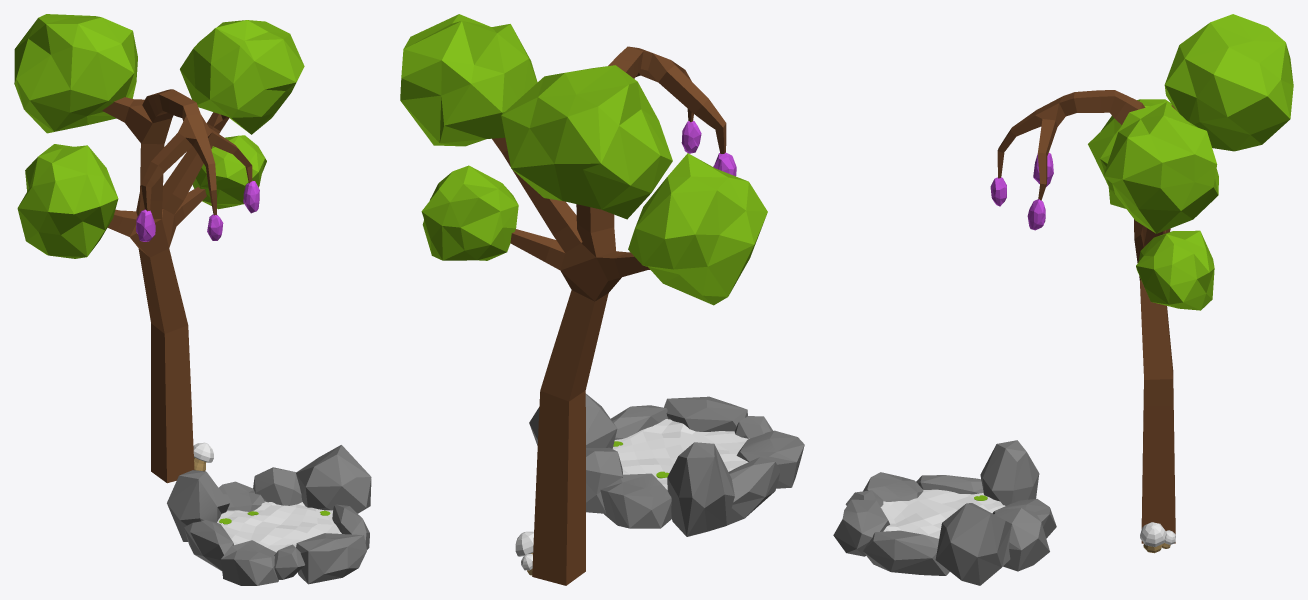
The model's file is gardenWATER.fbx.
3 views of the same model, side by side, from view 1: azimuth 30°, elevation 25°; view 2: azimuth 150°, elevation 25°; view 3: azimuth 270°, elevation 25° (orthographic). The views are drawn at different scales.
Parts seen in each view (by area): view 1: Vert, branch002, branch004, branch003, water1, stone003.001, branch001, stone002.001, stone002, stone003.006, stone001.002, stone003.002 (+4 smaller); view 2: Vert, branch002, branch003, branch004, branch001, stone002, water1, stone003.004, stone002.001, stone001.002, stone003.006, stone003.002 (+3 smaller); view 3: branch002, Vert, branch004, branch001, stone003.001, water1, stone001.001, stone002, stone003.002, stone002.001, branch003, stone003.006 (+2 smaller).
Part boxes in pixels (x1=…): Vert: x1=102, y1=89, x2=252, y2=483; branch002: x1=14, y1=14, x2=137, y2=133; branch004: x1=180, y1=20, x2=304, y2=134; branch003: x1=17, y1=144, x2=118, y2=258; water1: x1=217, y1=501, x2=341, y2=552; stone003.001: x1=296, y1=445, x2=371, y2=513; branch001: x1=192, y1=135, x2=266, y2=209; stone002.001: x1=296, y1=533, x2=366, y2=584; stone002: x1=167, y1=470, x2=229, y2=541; stone003.006: x1=221, y1=540, x2=278, y2=585; stone001.002: x1=184, y1=520, x2=233, y2=570; stone003.002: x1=253, y1=467, x2=302, y2=505; Vert: x1=492, y1=46, x2=726, y2=585; branch002: x1=501, y1=65, x2=672, y2=219; branch003: x1=628, y1=153, x2=767, y2=305; branch004: x1=400, y1=14, x2=537, y2=146; branch001: x1=421, y1=165, x2=518, y2=260; stone002: x1=667, y1=442, x2=734, y2=536; water1: x1=612, y1=419, x2=749, y2=489; stone003.004: x1=600, y1=473, x2=671, y2=528; stone002.001: x1=664, y1=396, x2=747, y2=431; stone001.002: x1=727, y1=457, x2=779, y2=525; stone003.006: x1=736, y1=430, x2=804, y2=488; stone003.002: x1=586, y1=447, x2=622, y2=513; branch002: x1=1164, y1=14, x2=1293, y2=151; Vert: x1=997, y1=90, x2=1176, y2=543; branch004: x1=1103, y1=101, x2=1218, y2=233; branch001: x1=1136, y1=230, x2=1214, y2=310; stone003.001: x1=935, y1=503, x2=1011, y2=585; water1: x1=880, y1=489, x2=1005, y2=538; stone001.001: x1=863, y1=530, x2=949, y2=575; stone002: x1=980, y1=440, x2=1039, y2=505; stone003.002: x1=994, y1=508, x2=1049, y2=571; stone002.001: x1=833, y1=499, x2=889, y2=556; branch003: x1=1088, y1=99, x2=1171, y2=208; stone003.006: x1=863, y1=472, x2=923, y2=501.
Bounding box in the file's own units: 487 × 756 × 655.
